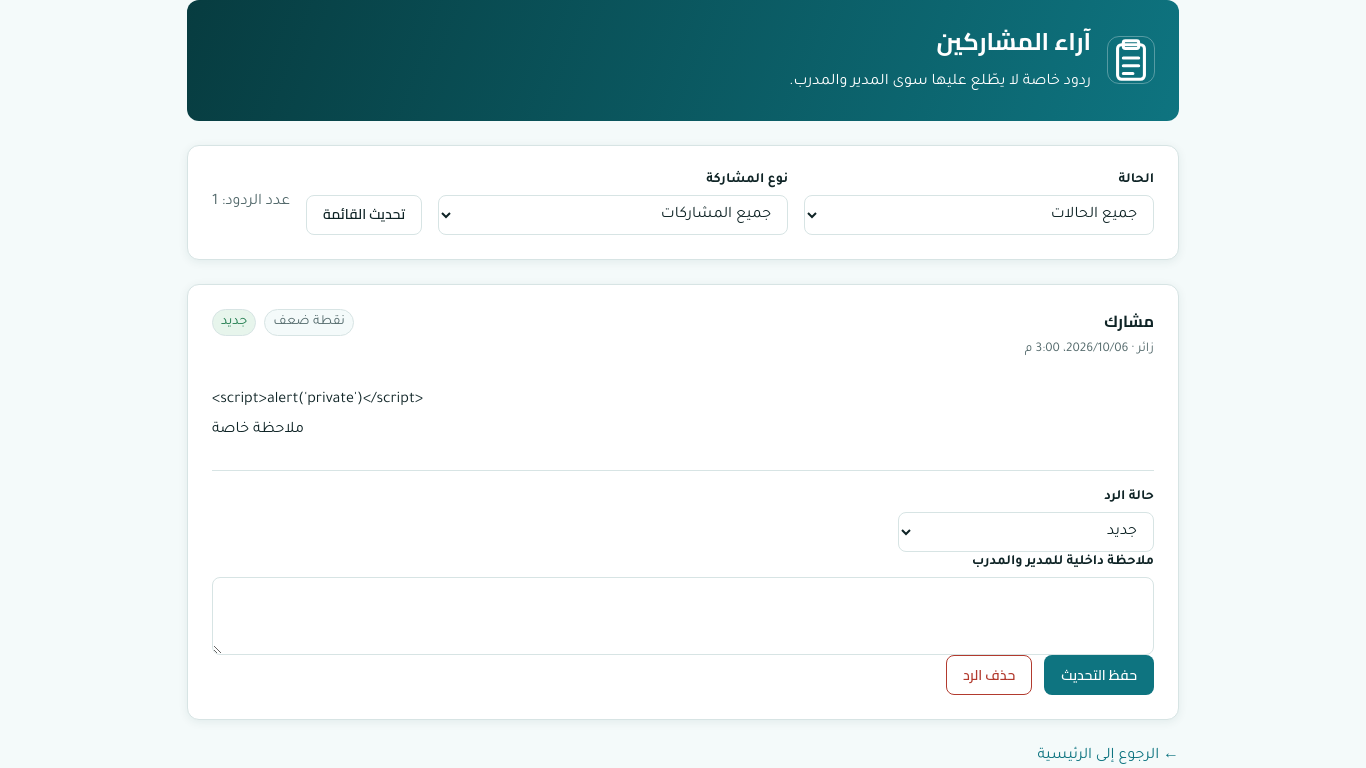
staff participant-response inbox › requires explicit Arabic confirmation before deleting a response
The image size is (1366, 768).
Click the button "حذف الرد": point(989, 675) [946,655,1032,695]
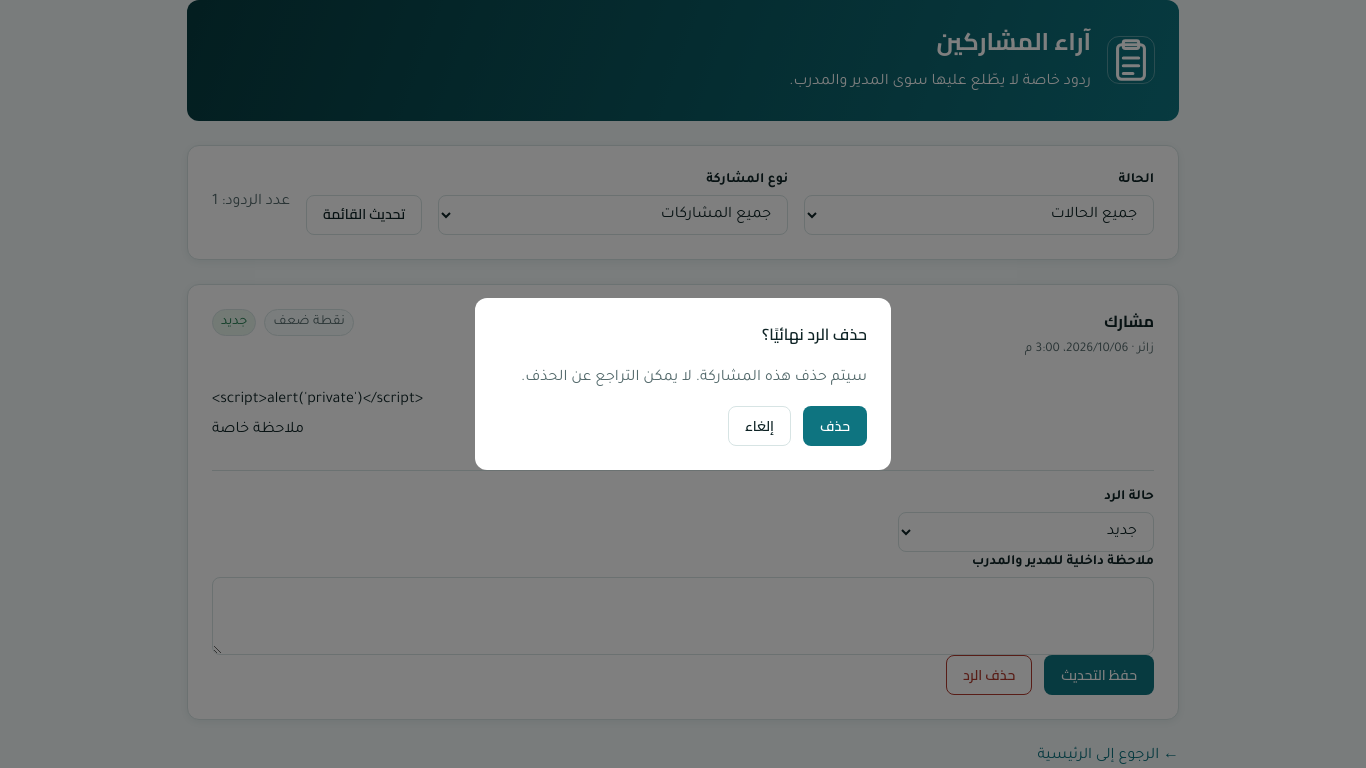
Click the button "حذف": point(835, 426) [803,406,867,446]
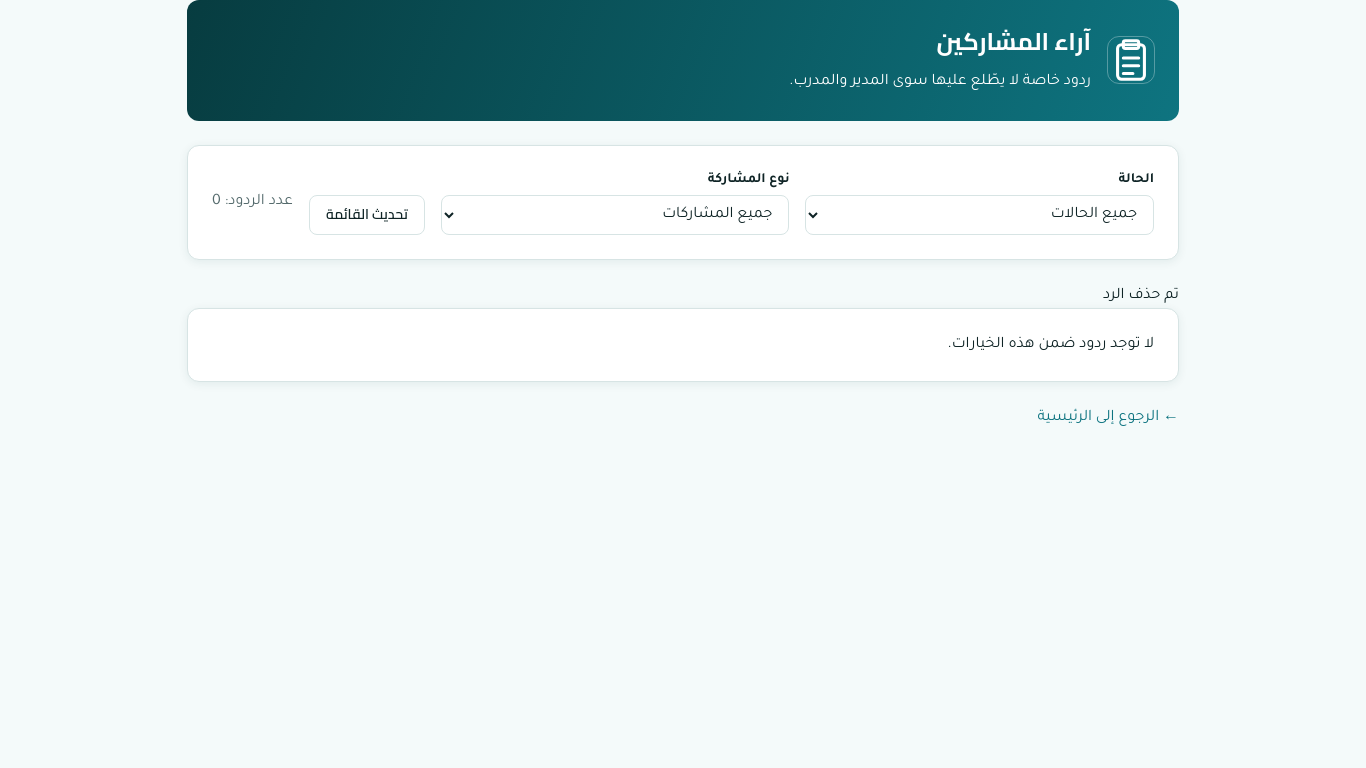
Expected: the text "لا توجد ردود ضمن هذه الخيارات." is shown, [948,337,1154,353]
